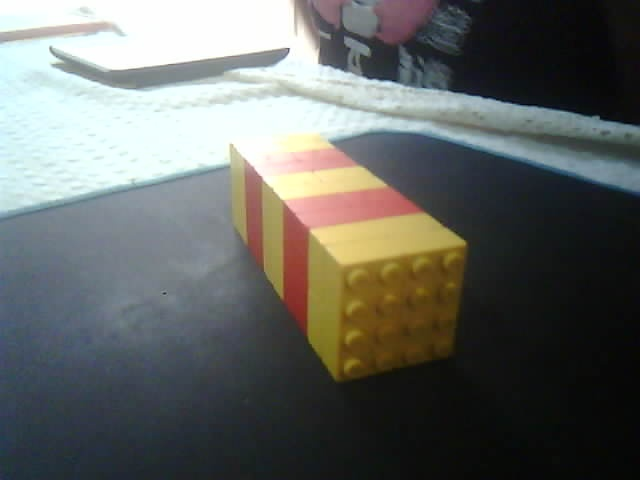lego: (227, 130, 469, 385)
